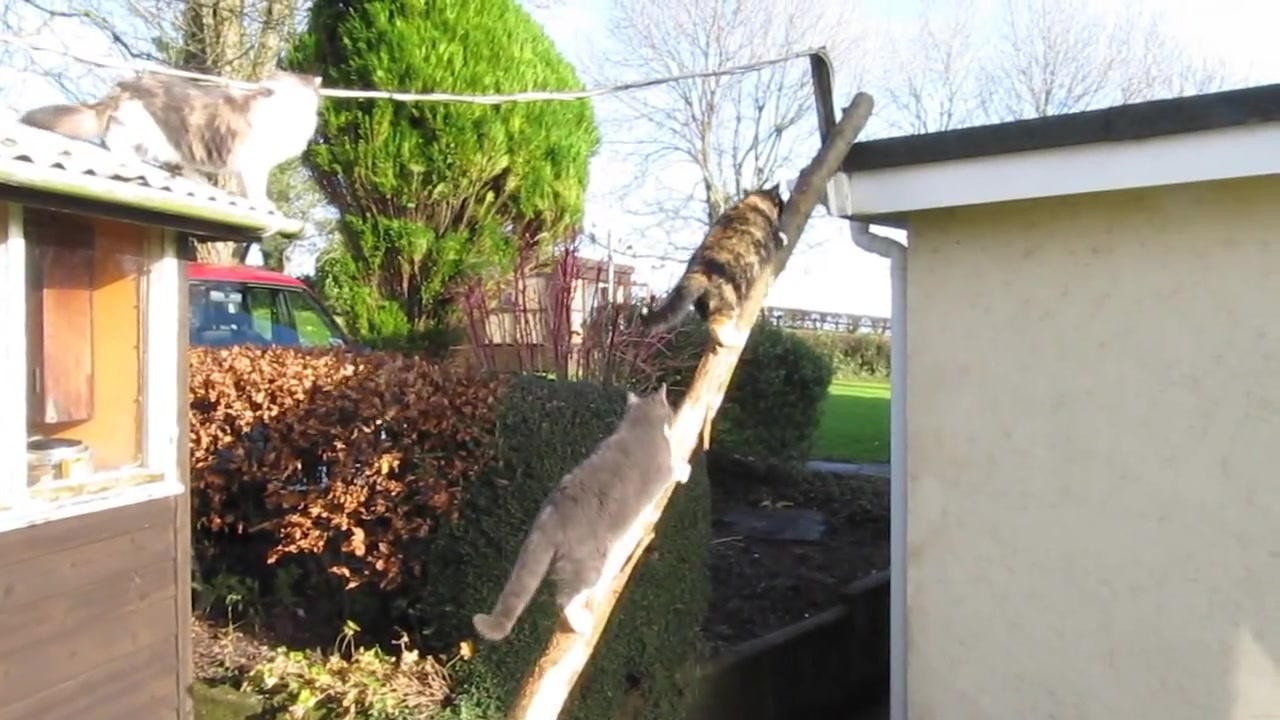cat: (473, 383, 694, 652)
